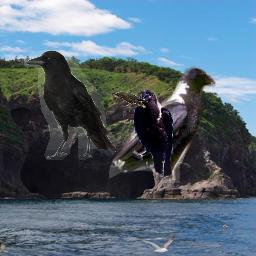Crow: (109, 63, 216, 183), (24, 50, 116, 160), (133, 89, 174, 179), (113, 91, 148, 108)
